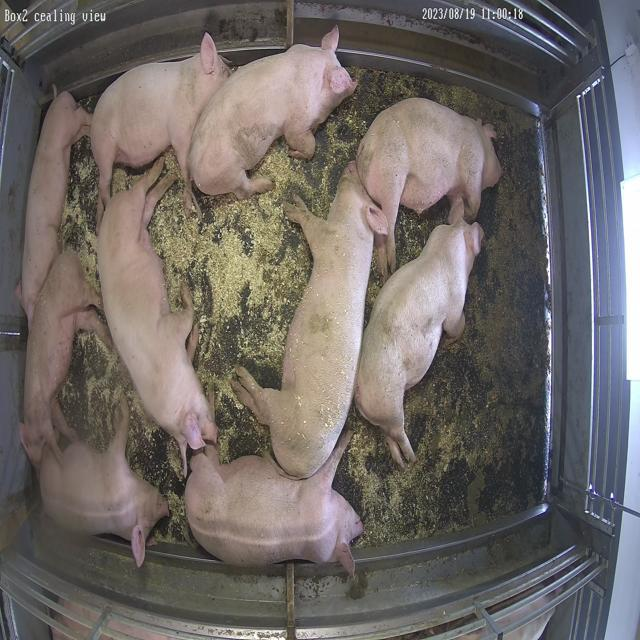Dirt: (453, 103, 549, 528)
Pig: (233, 165, 388, 478), (97, 159, 217, 470), (356, 221, 485, 468), (189, 27, 357, 198), (90, 33, 230, 224), (357, 98, 503, 276), (185, 432, 364, 576), (37, 397, 169, 568), (20, 254, 106, 466), (18, 91, 91, 324)
